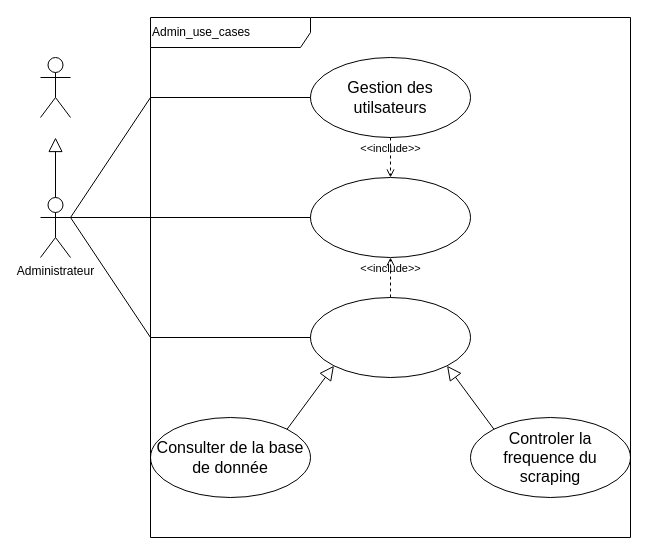
Image size: 648x555. Some labels were removed from this diagram. The box of each missing label's shape, as (x1, y1, x2, y2) in pixels:
Accéder au tableau de bord administratif: (310, 296, 470, 378)
Client abonné: (40, 56, 70, 118)
S'authentifier: (310, 176, 470, 258)
